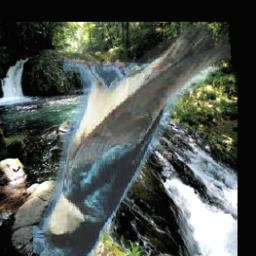Swallow: (34, 25, 232, 256)
